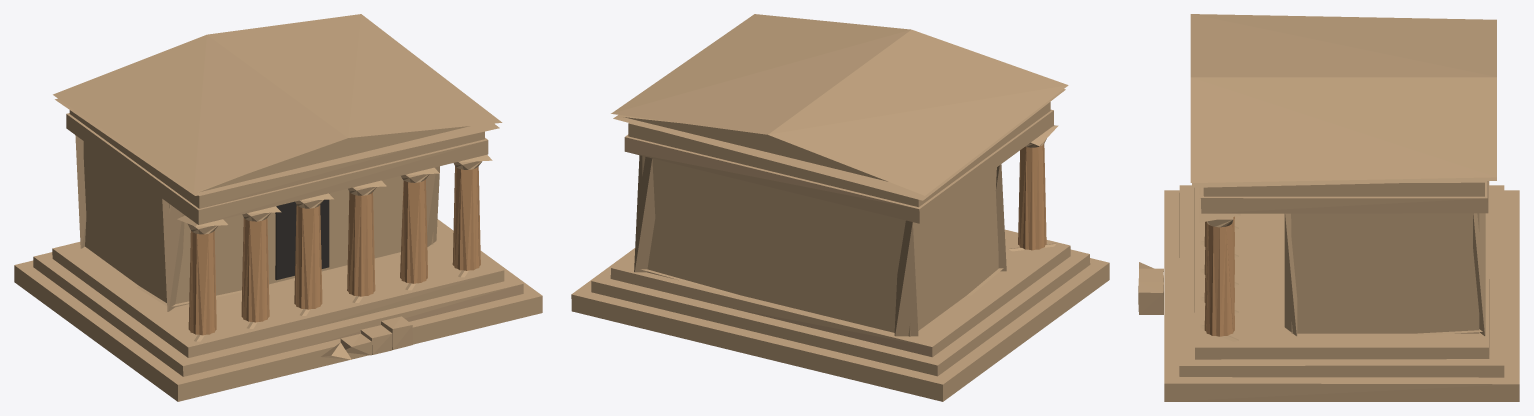
File: desert-temple-lod1.glb
3 renders of one model, left to right at view 1: azimuth 30°, elevation 25°; view 2: azimuth 150°, elevation 25°; view 3: azimuth 270°, elevation 25°, orthographic. The views are drawn at different scales.
Size of the model in its own units: 17.98 by 9.9 by 14.98.
